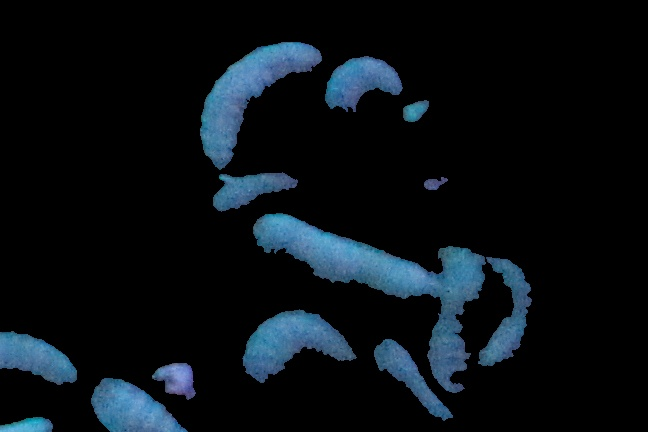larvae: (253, 213, 437, 309), (207, 37, 309, 150), (243, 311, 355, 389), (365, 329, 442, 427), (483, 253, 541, 383), (432, 246, 483, 393), (77, 376, 166, 432), (1, 322, 85, 381), (324, 54, 403, 116), (209, 167, 297, 218)
